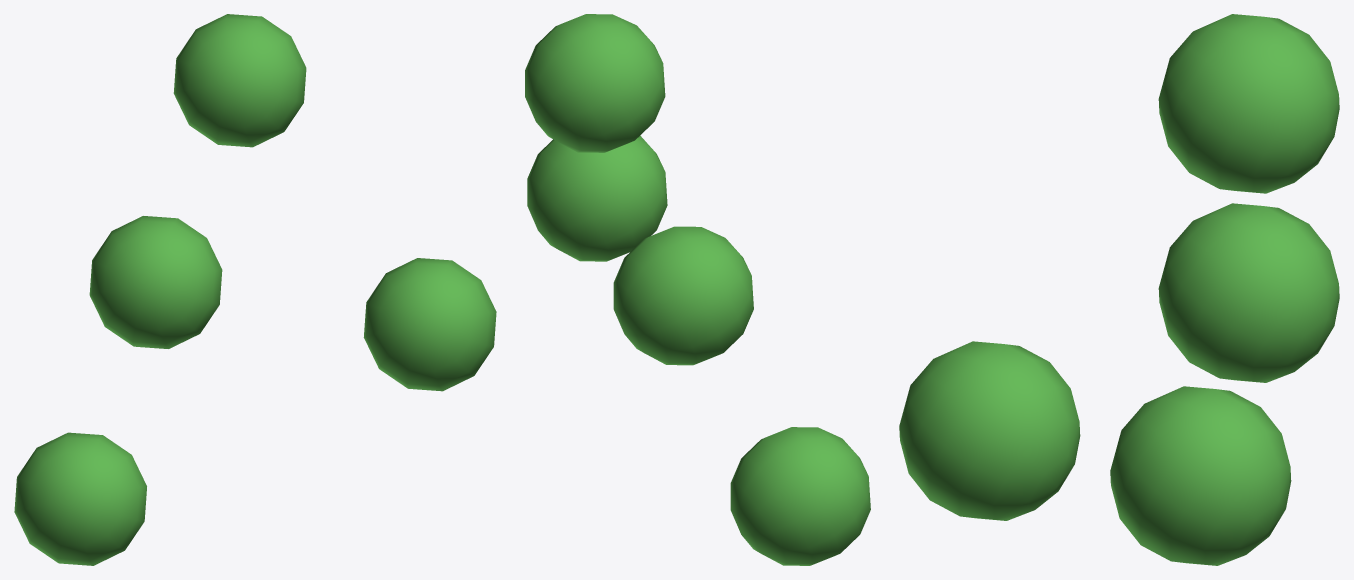
The model's file is linfatico-supraclavicular-nodes-r.glb.
The picture shows the model from 3 angles, left to right: view 1: azimuth 30°, elevation 25°; view 2: azimuth 150°, elevation 25°; view 3: azimuth 270°, elevation 25°; orthographic projection. The views are drawn at different scales.
Parts seen in each view (by area): view 1: Supraclavicular nodes.r; view 2: Supraclavicular nodes.r; view 3: Supraclavicular nodes.r.
Boxes of the visible parts, x1,y1,x2,y2 form: Supraclavicular nodes.r: (14,14,496,565); Supraclavicular nodes.r: (525,14,870,565); Supraclavicular nodes.r: (899,14,1339,565).
Bounding box in the file's own units: 0.00855 × 0.0102 × 0.00624.
